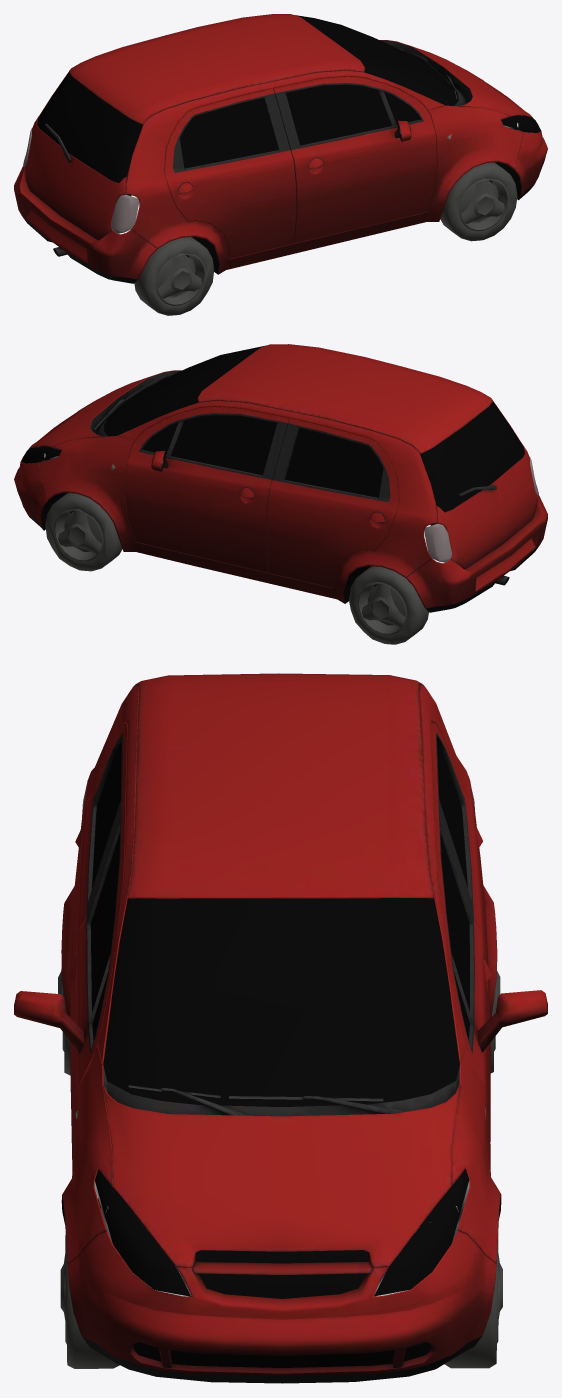
The model's file is pc-compact-red.lod0.glb.
3 renders of one model, top to bottom at view 1: azimuth 30°, elevation 25°; view 2: azimuth 150°, elevation 25°; view 3: azimuth 270°, elevation 25°, orthographic. The views are drawn at different scales.
Visible parts, largest first — view 1: Compact Body_Body_0, Wheel_C_Wheel_0; view 2: Compact Body_Body_0, Wheel_C_Wheel_0; view 3: Compact Body_Body_0, Wheel_C_Wheel_0.
Boxes of the visible parts, x1=… form: Compact Body_Body_0: x1=14, y1=14, x2=547, y2=283; Wheel_C_Wheel_0: x1=23, y1=15, x2=540, y2=315; Compact Body_Body_0: x1=14, y1=344, x2=547, y2=612; Wheel_C_Wheel_0: x1=21, y1=345, x2=538, y2=644; Compact Body_Body_0: x1=14, y1=673, x2=547, y2=1383; Wheel_C_Wheel_0: x1=58, y1=743, x2=502, y2=1368.
Size of the model in its own units: 3.26 by 1.32 by 1.61.
Materials: 2 (1 with a texture image).
